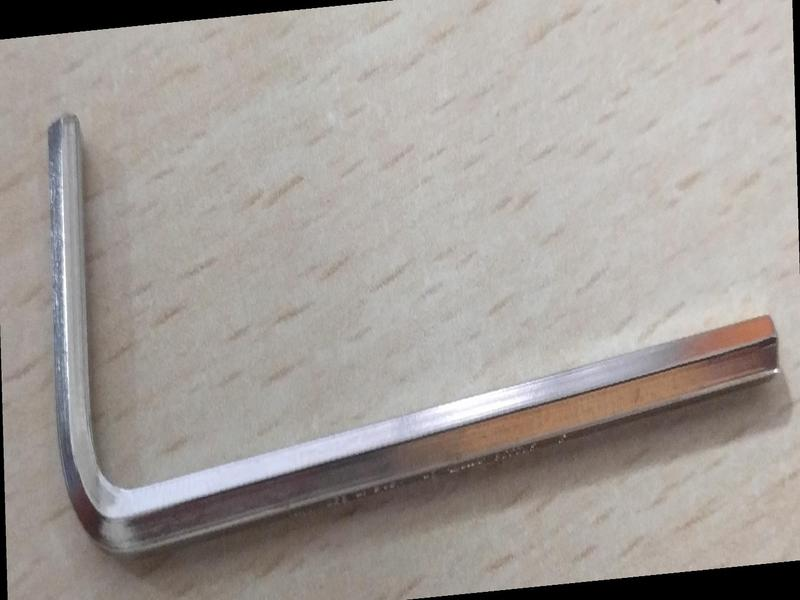turner: (28, 98, 791, 556)
